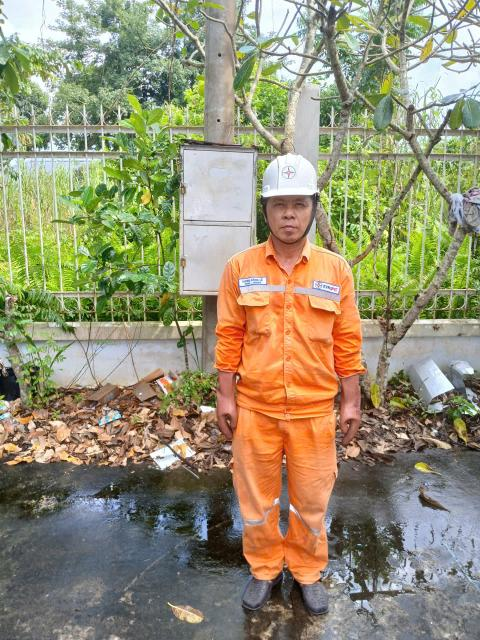gloves: (321, 366, 364, 455), (204, 358, 247, 444)
helmet: (257, 145, 343, 203)
shoes: (235, 560, 282, 616), (296, 568, 341, 623)
